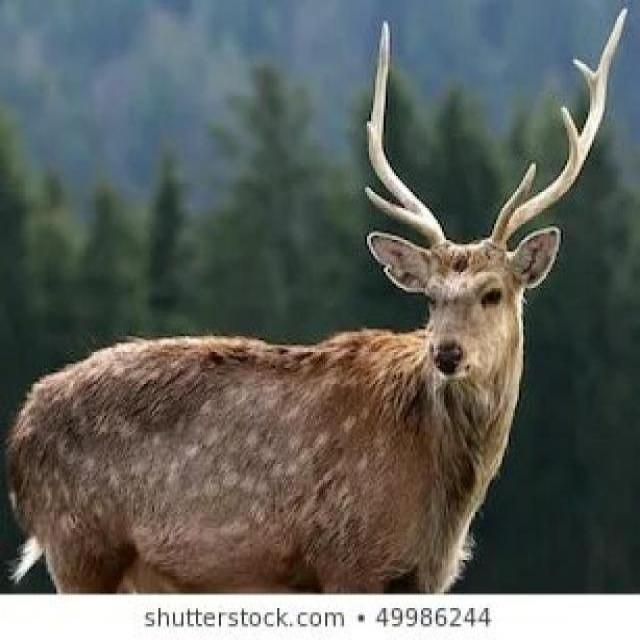deer: (0, 44, 619, 600)
